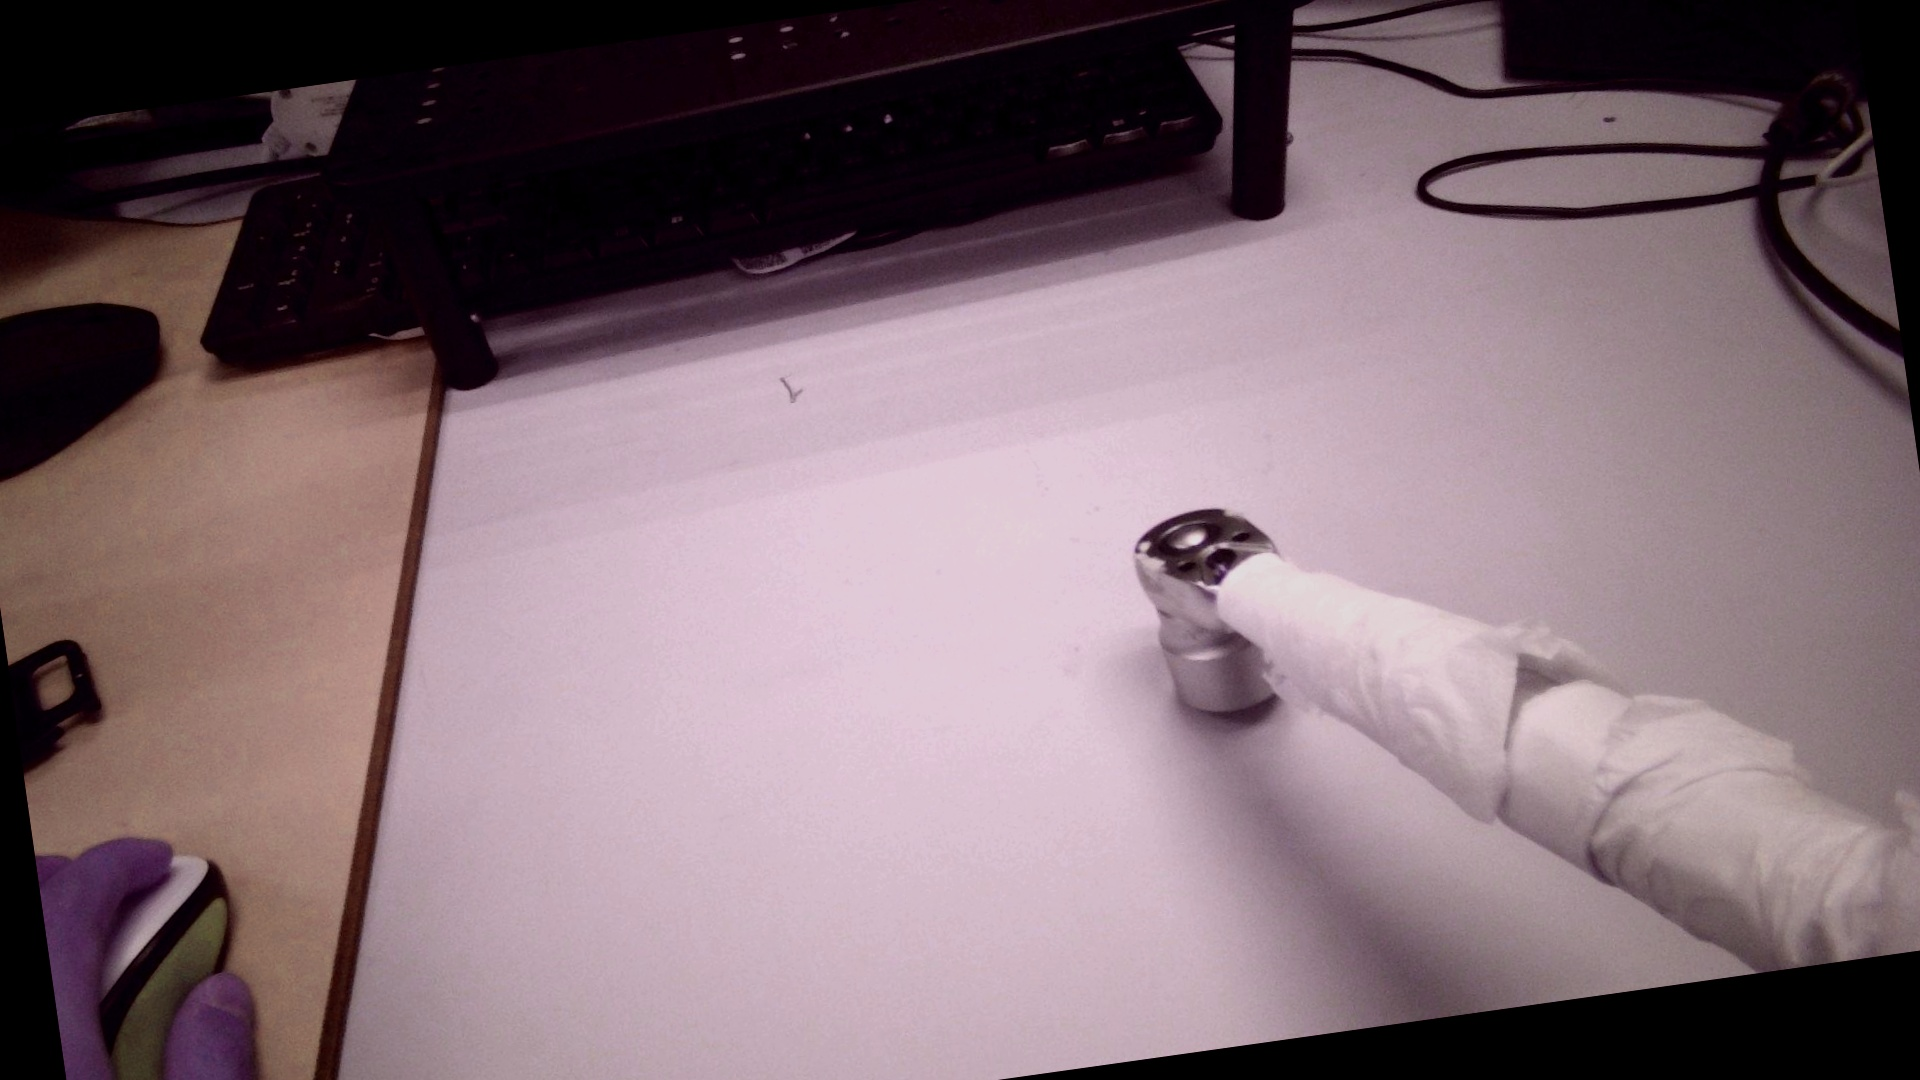wrench: (1154, 513, 1222, 562)
